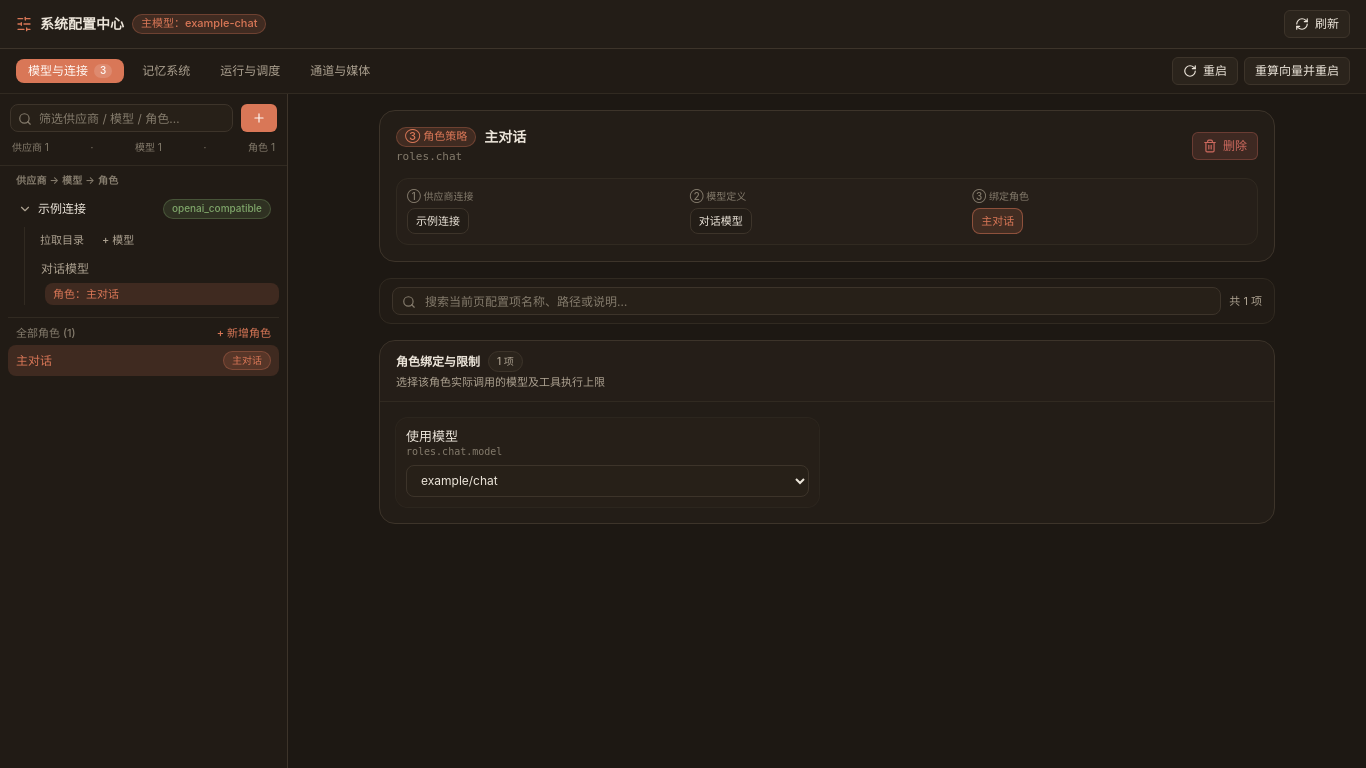
ConfigurationPanel organization › auto-expands provider-model-role tree and renders 3-tier hierarchy chain navigation
Expected: the element with test id "config-hierarchy-chain" is shown, x1=396 y1=178 x2=1258 y2=245
Expected: the button "对话模型" below "openai_compatible" is shown, x1=33 y1=257 x2=279 y2=281
Click the button "对话模型" below "② 模型定义".
click(721, 221)  # box x1=690 y1=208 x2=752 y2=234
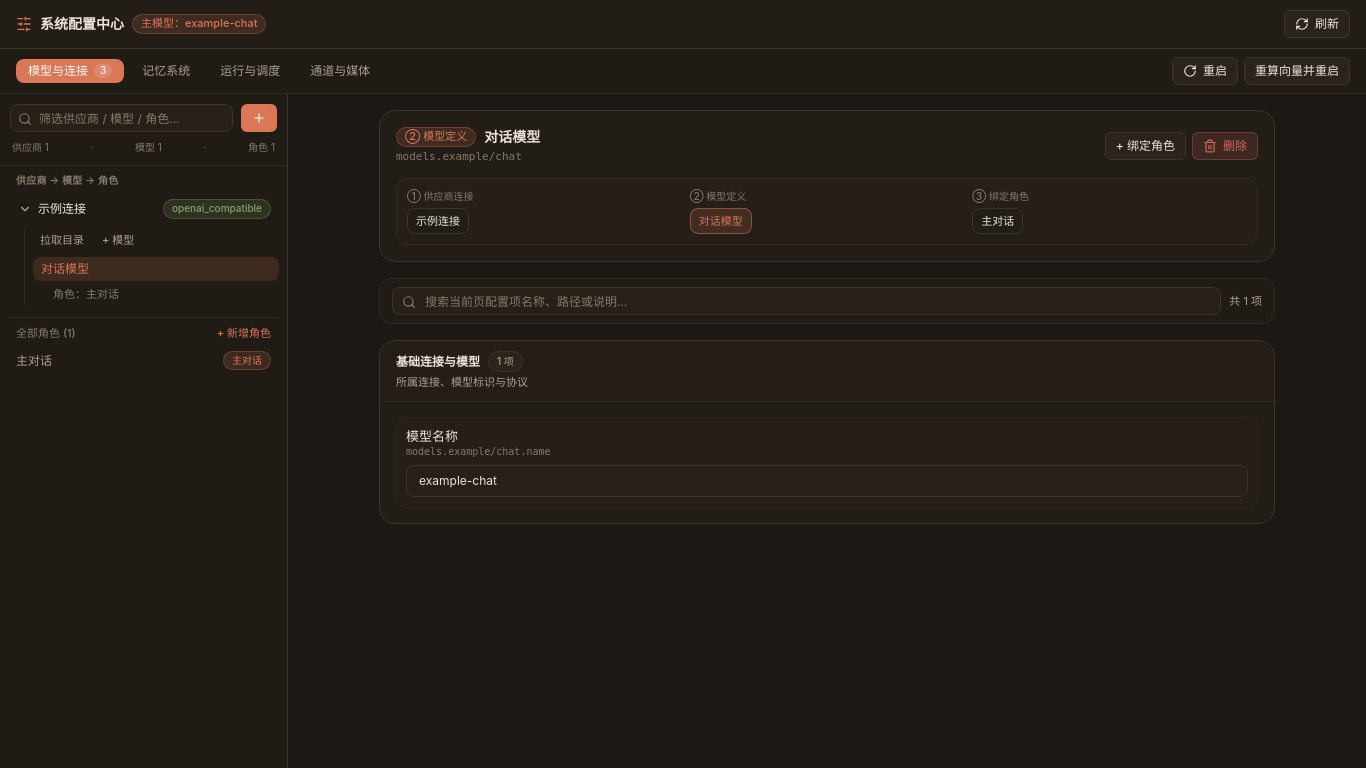
Now the text "models.example/chat" is shown, box x1=396 y1=149 x2=540 y2=166
Click the button "示例连接" below "① 供应商连接".
click(438, 221)  # box x1=407 y1=208 x2=469 y2=234
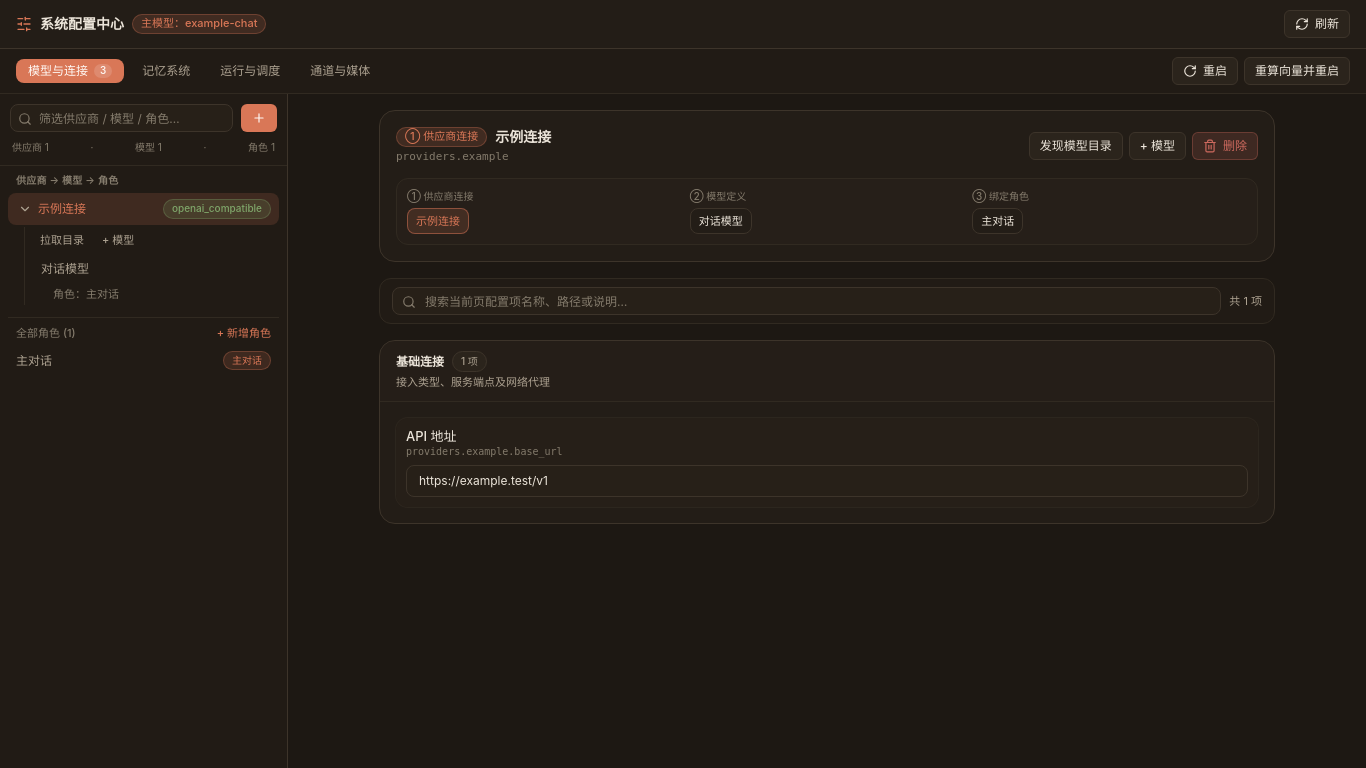
Now the text "providers.example" is shown, box x1=396 y1=150 x2=509 y2=163
